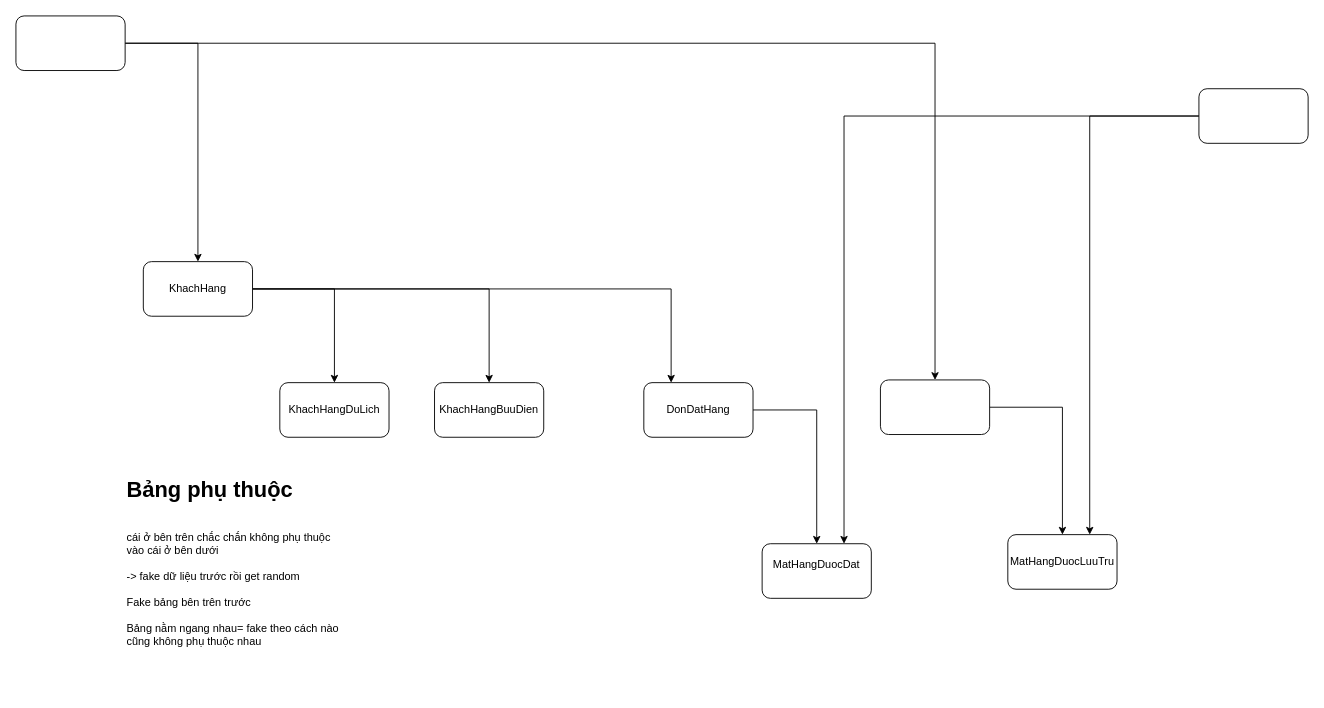
This 1324x708 diagram has some shape labels left out. Each missing label, with the centre of its shape:
"CuaHang" belongs at (x=935, y=407).
"MatHang" belongs at (x=1253, y=115).
"VanPhongDaiDien" belongs at (x=70, y=43).
